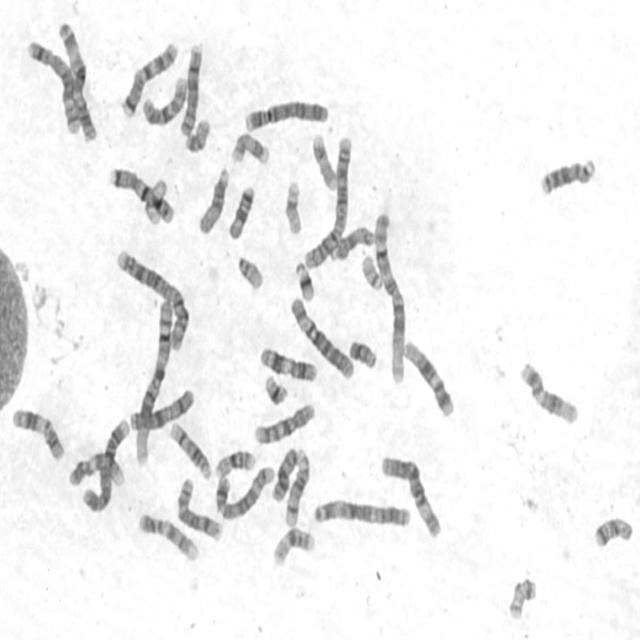A1: (130, 292, 175, 468), (370, 205, 408, 386)
A2: (113, 244, 192, 353), (300, 130, 354, 270)
A3: (54, 15, 99, 142), (309, 492, 413, 530)
B4: (79, 412, 131, 515), (240, 93, 331, 134)
B5: (23, 32, 82, 137), (212, 459, 276, 522)
C10: (250, 398, 317, 446), (138, 70, 190, 128)
C11: (8, 402, 66, 464), (256, 342, 319, 384)
C12: (400, 334, 456, 420), (516, 355, 580, 427)
C6: (287, 291, 356, 381), (377, 449, 444, 541)
C7: (118, 34, 180, 120), (106, 162, 174, 226)
C8: (173, 472, 224, 544), (177, 37, 204, 138)
C9: (135, 508, 200, 564), (65, 449, 127, 489)
D13: (537, 150, 598, 198), (268, 442, 302, 503)
D14: (166, 416, 213, 482), (281, 445, 312, 529)
D15: (194, 162, 231, 236), (330, 226, 378, 262)
E16: (270, 522, 316, 568), (212, 444, 258, 479)
E17: (308, 129, 338, 191), (228, 128, 271, 167)
E18: (225, 180, 256, 242), (590, 511, 634, 550)
F19: (141, 173, 169, 226), (281, 174, 304, 236)
F20: (505, 572, 538, 622), (181, 113, 212, 154)
G21: (291, 256, 316, 303), (262, 369, 290, 407)
G22: (234, 250, 265, 292), (358, 248, 386, 292)
X: (126, 382, 197, 432)
Y: (346, 334, 378, 371)
